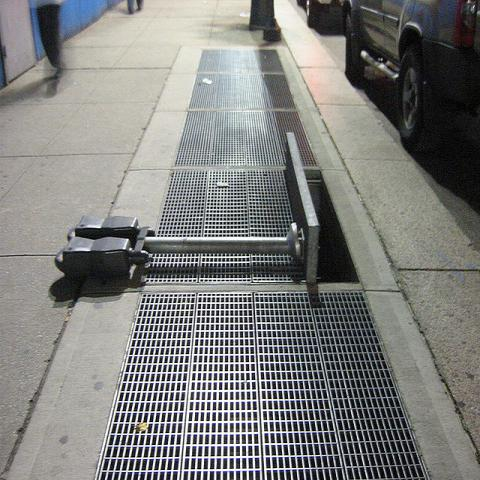car: (345, 0, 479, 152)
